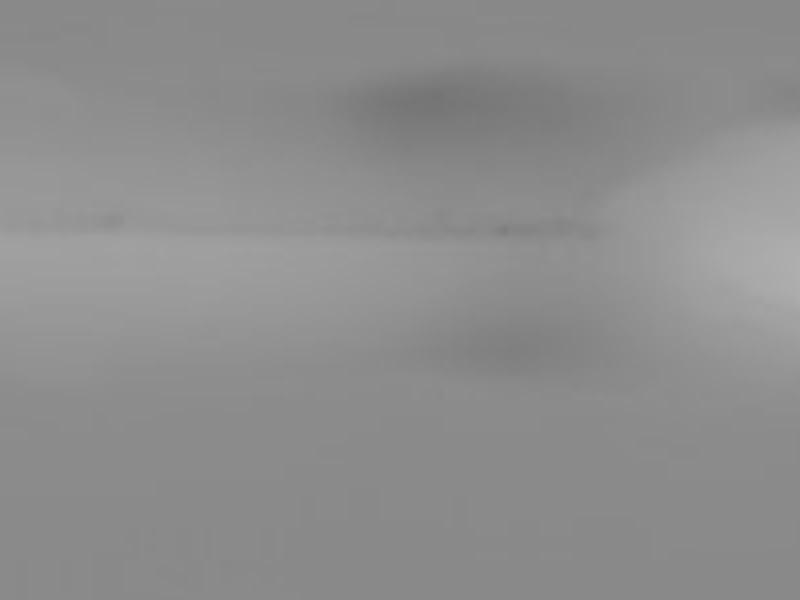defect: (495, 220, 513, 241)
